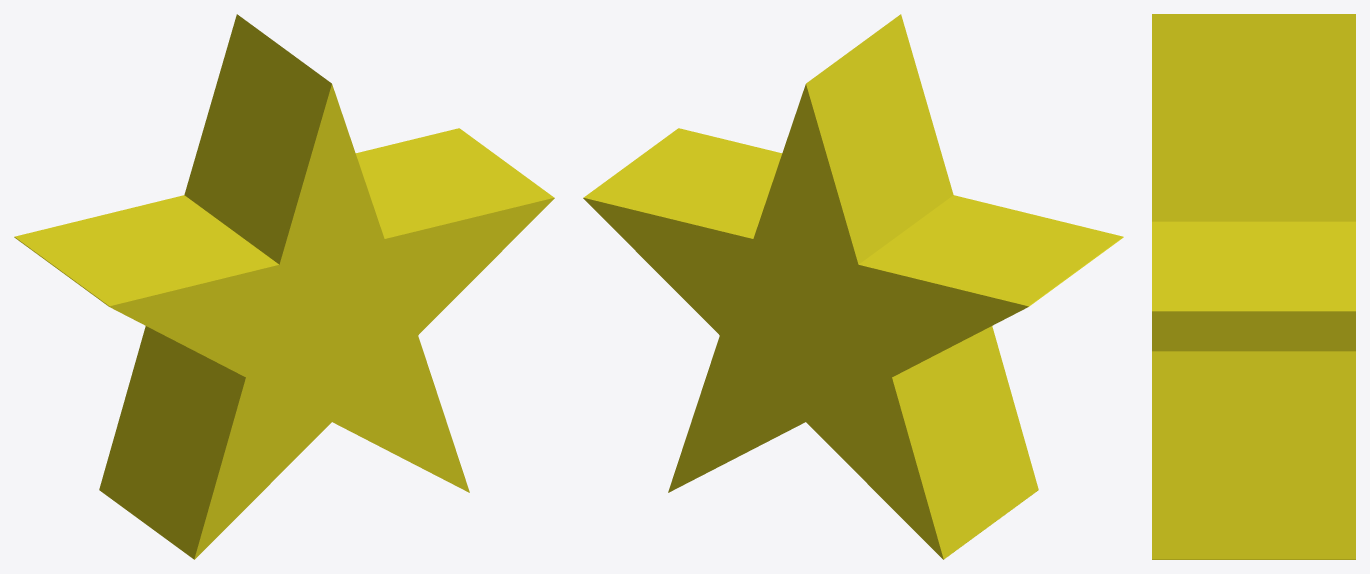
Rendered from DoubleScorePowerUpModel.fbx.
3 renders of one model, left to right at view 1: azimuth 30°, elevation 25°; view 2: azimuth 150°, elevation 25°; view 3: azimuth 270°, elevation 25°, orthographic. The views are drawn at different scales.
Parts seen in each view (by area): view 1: Cube; view 2: Cube; view 3: Cube.
Boxes of the visible parts, x1,y1,x2,y2 form: Cube: (14,14,554,559); Cube: (583,14,1123,559); Cube: (1152,14,1355,559).
Bounding box in the file's own units: 738 × 701 × 273.
